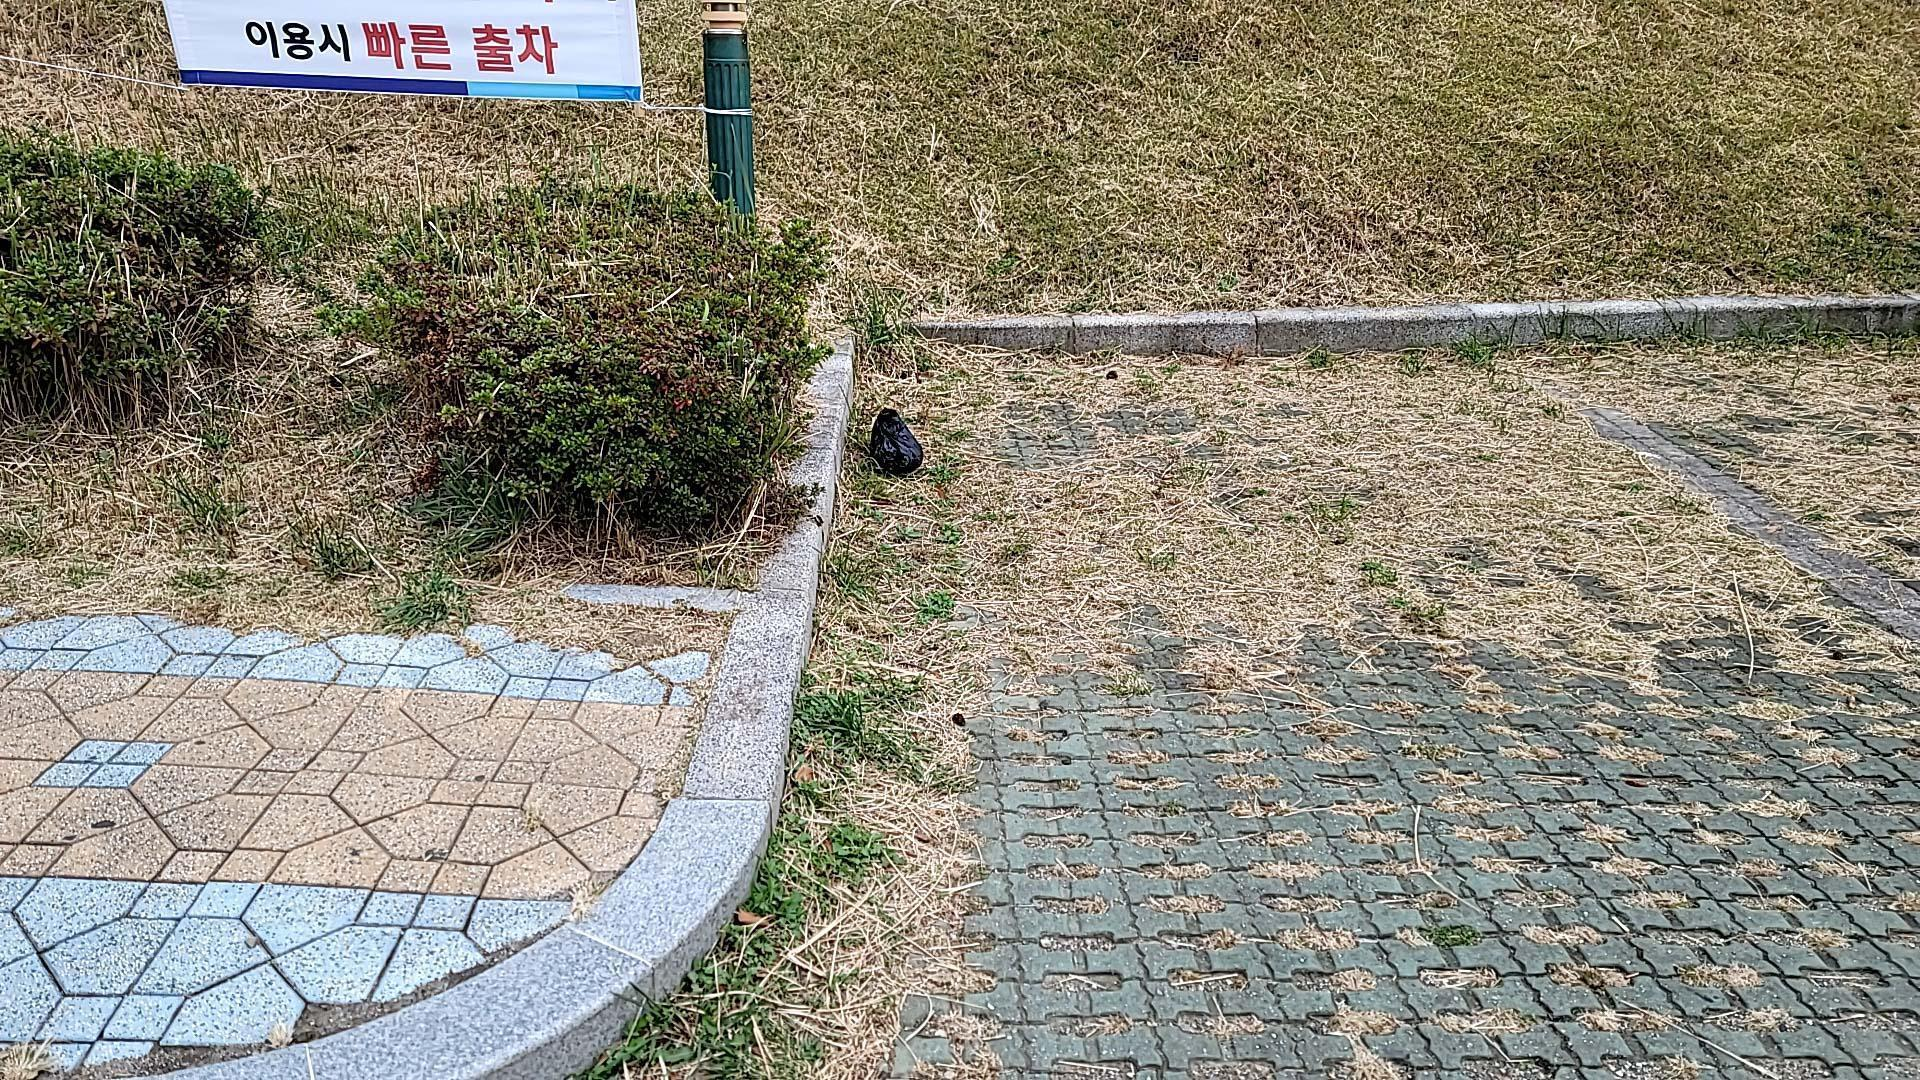black_bag: (864, 404, 926, 477)
